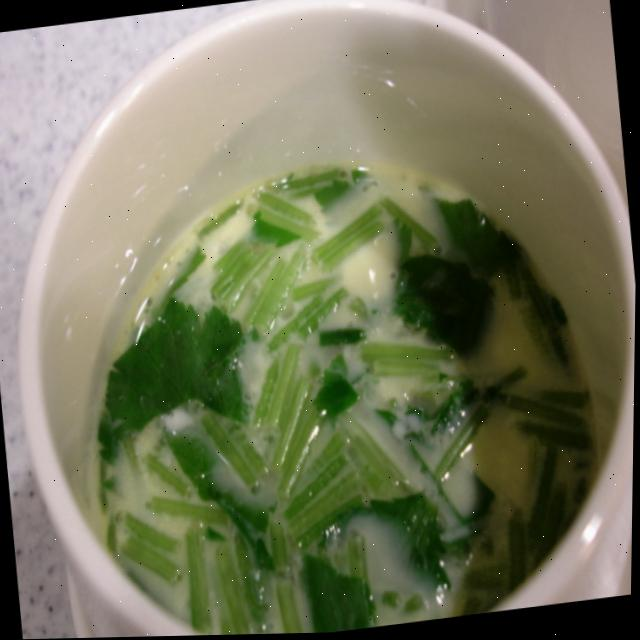鸡蛋料理: (3, 2, 640, 640)
